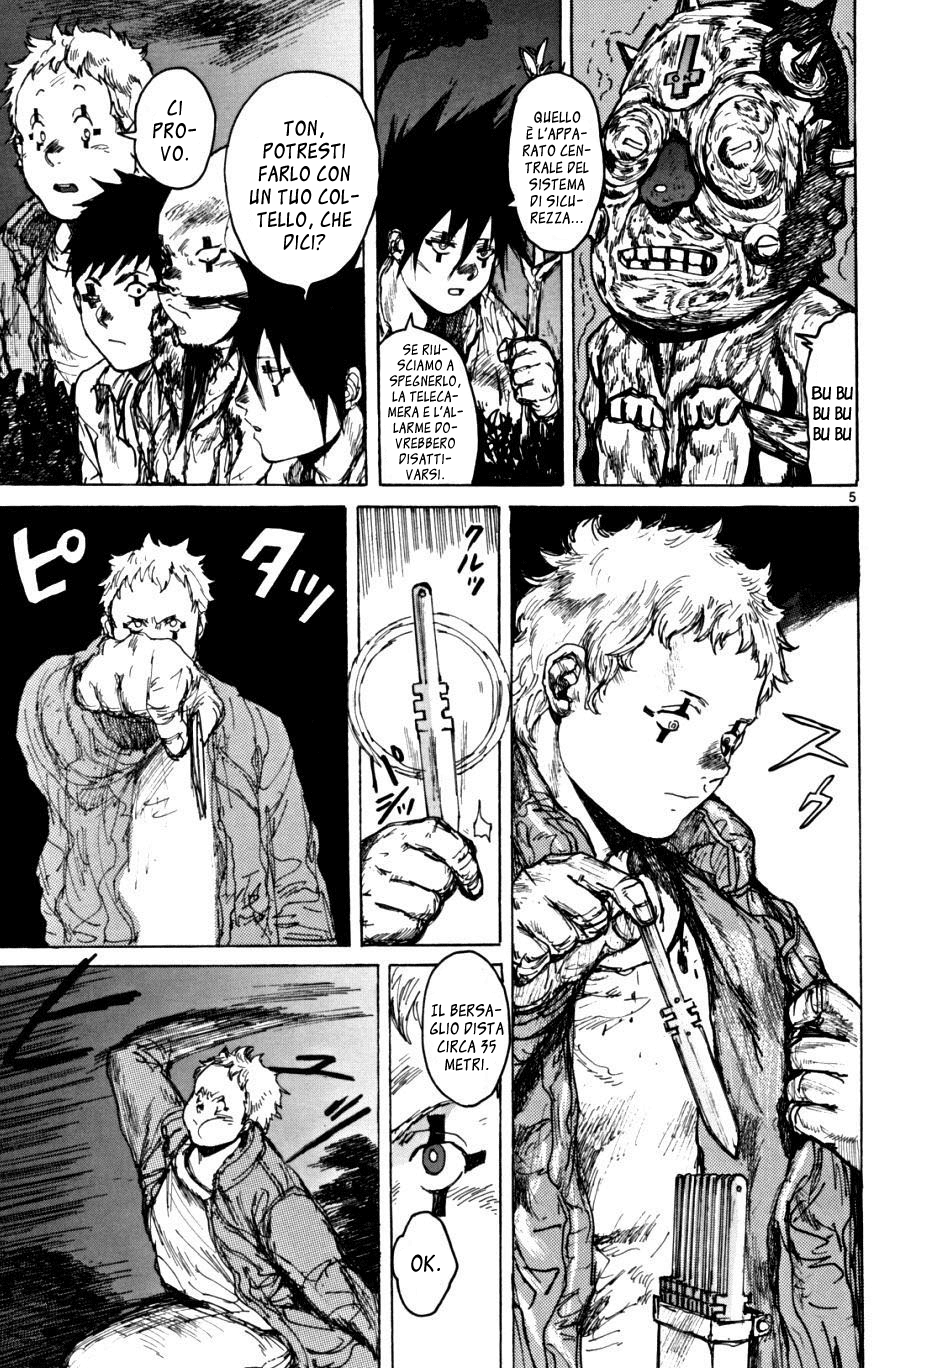Baloon: (221, 69, 386, 302), (502, 71, 604, 263), (371, 313, 477, 486), (421, 950, 513, 1109), (117, 67, 217, 190), (797, 307, 861, 488), (394, 1215, 461, 1321)
Vignetta: (511, 502, 865, 1368), (1, 3, 363, 488), (1, 504, 348, 952), (1, 961, 378, 1368), (575, 1, 856, 486), (378, 1, 564, 488), (359, 504, 500, 948), (390, 961, 506, 1368)
